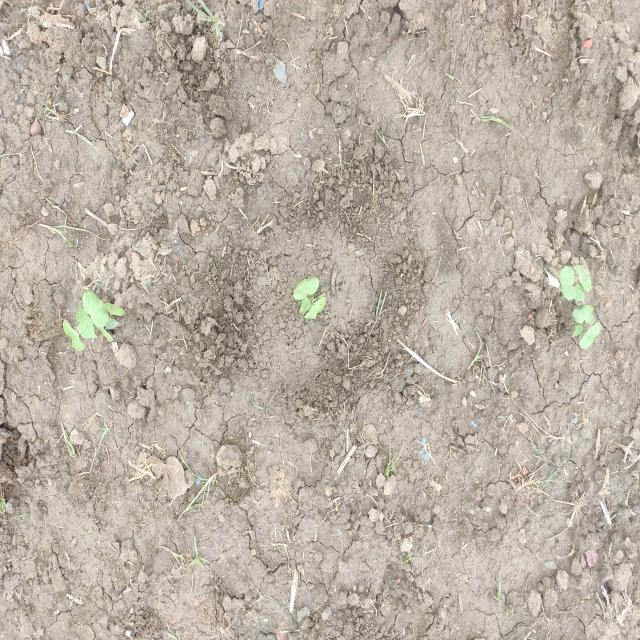seedling: (82, 291, 109, 327), (63, 320, 85, 351), (293, 277, 319, 300), (579, 322, 601, 349), (560, 266, 576, 300), (78, 313, 98, 339), (304, 297, 326, 320), (572, 305, 595, 324), (577, 265, 591, 292), (94, 323, 113, 341), (104, 303, 125, 316), (574, 283, 584, 304), (75, 307, 88, 323), (299, 296, 311, 312), (571, 325, 583, 337), (106, 318, 119, 329)
